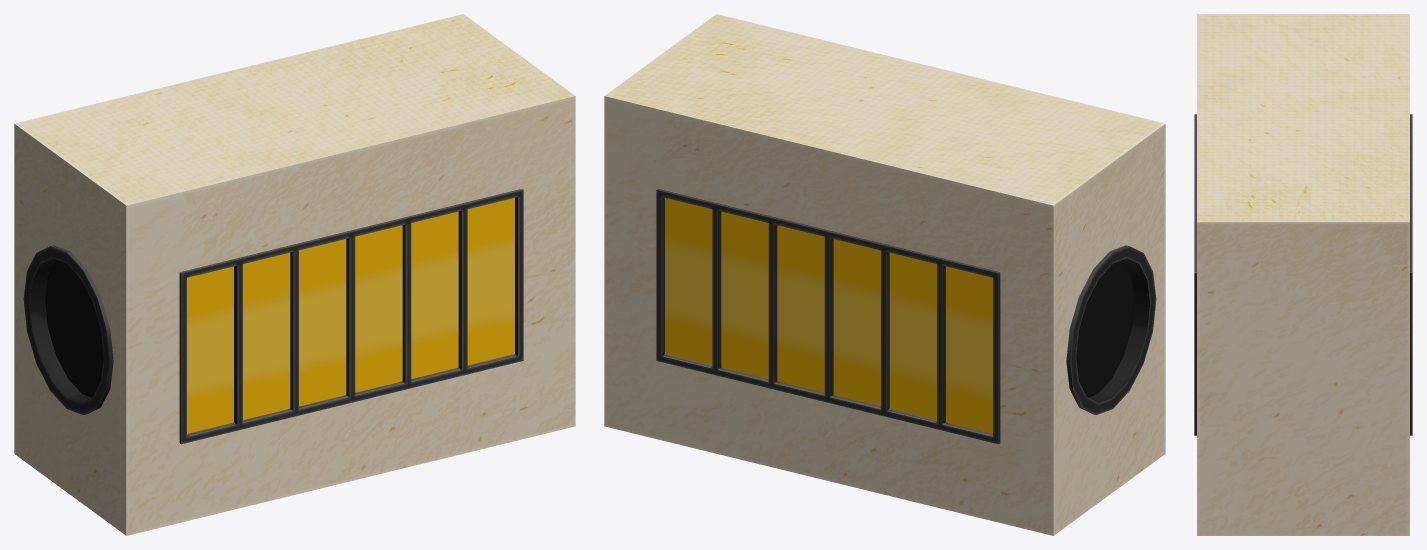
Rendered from Tofu_GUN.fbx.
3 views of the same model, side by side, from view 1: azimuth 30°, elevation 25°; view 2: azimuth 150°, elevation 25°; view 3: azimuth 270°, elevation 25° (orthographic). The views are drawn at different scales.
Parts seen in each view (by area): view 1: TOFU_GUN; view 2: TOFU_GUN; view 3: TOFU_GUN.
Part boxes in pixels (x1,y1,x2,y2): TOFU_GUN: (14, 14, 575, 535); TOFU_GUN: (604, 14, 1165, 535); TOFU_GUN: (1194, 14, 1412, 535).
Size of the model in its own units: 37.29 by 26 by 16.4.
